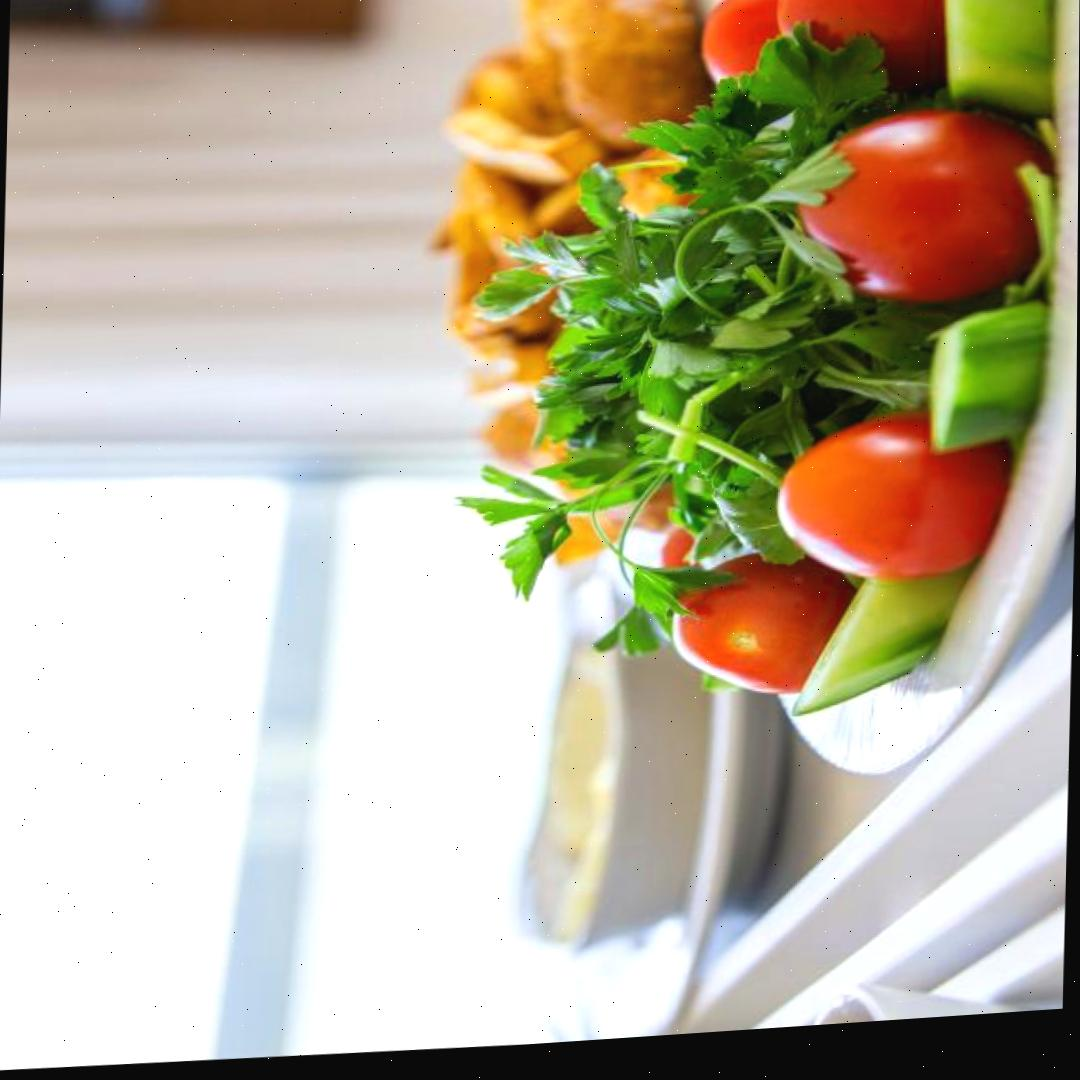matang: (795, 100, 1060, 314), (773, 399, 1017, 590), (665, 541, 872, 705), (772, 0, 1008, 102)
